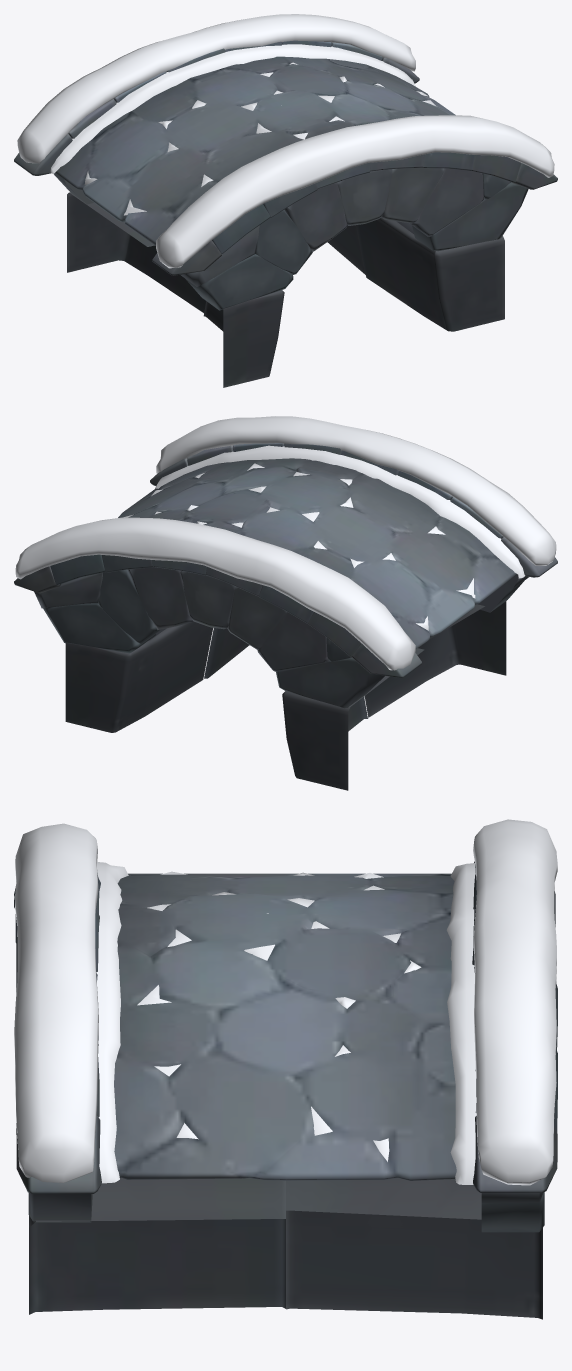
File: stone-winter.glb
3 renders of one model, top to bottom at view 1: azimuth 30°, elevation 25°; view 2: azimuth 150°, elevation 25°; view 3: azimuth 270°, elevation 25°, orthographic. The views are drawn at different scales.
Bounding box in the file's own units: 40.69 × 21.62 × 30.08.
Materials: 2 (1 with a texture image).
